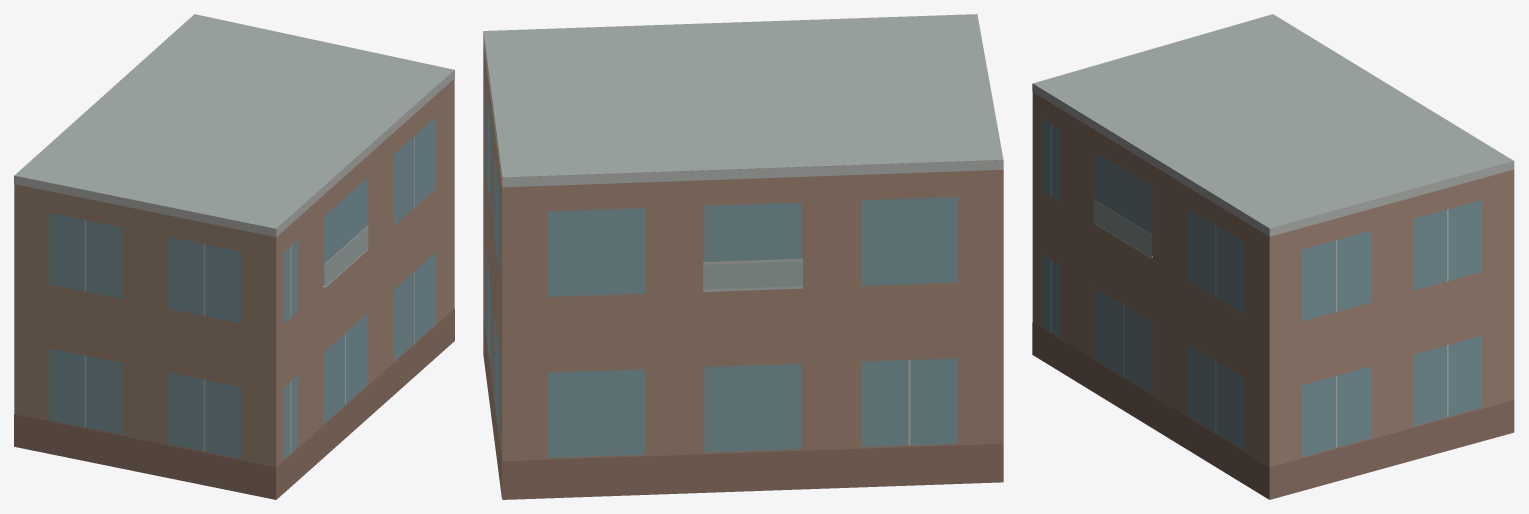
Rendered from survey-upis-32730971.glb.
The picture shows the model from 3 angles, left to right: view 1: azimuth 30°, elevation 25°; view 2: azimuth 150°, elevation 25°; view 3: azimuth 270°, elevation 25°; orthographic projection. The views are drawn at different scales.
Visible parts, largest first — view 1: survey-upis-32730971.tmp; view 2: survey-upis-32730971.tmp; view 3: survey-upis-32730971.tmp.
Part boxes in pixels (bbox=[...]): survey-upis-32730971.tmp: bbox=[14, 14, 454, 499]; survey-upis-32730971.tmp: bbox=[483, 14, 1003, 499]; survey-upis-32730971.tmp: bbox=[1032, 14, 1514, 499].
Bounding box in the file's own units: 13.31 × 7.85 × 12.64.
